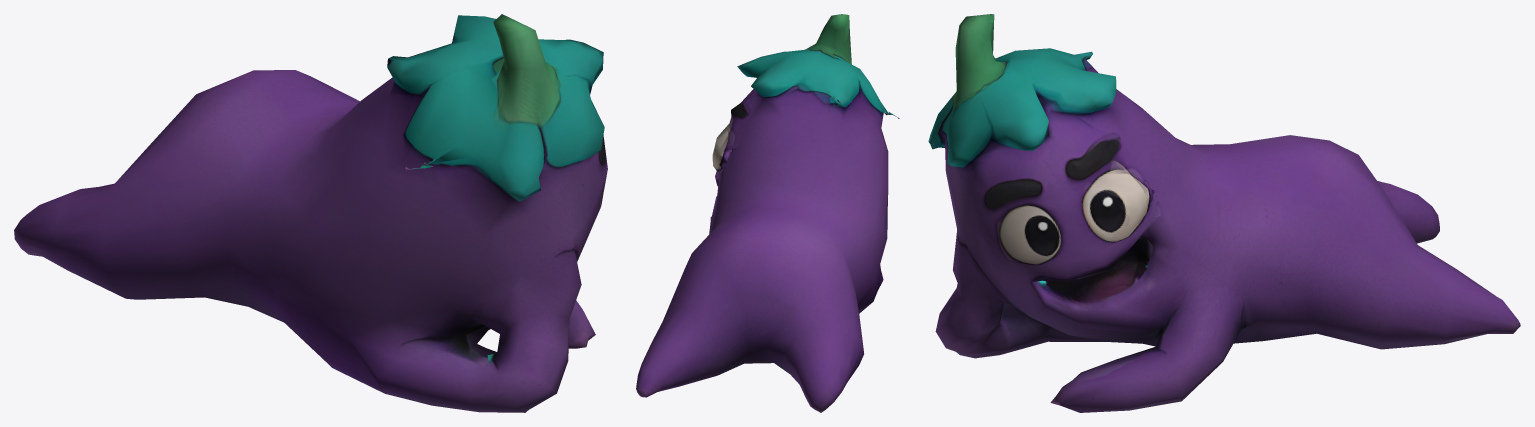
File: 4gunmascot.fbx
3 views of the same model, side by side, from view 1: azimuth 30°, elevation 25°; view 2: azimuth 150°, elevation 25°; view 3: azimuth 270°, elevation 25° (orthographic). The views are drawn at different scales.
Visible parts, largest first — view 1: tripo_node_4cb998c3; view 2: tripo_node_4cb998c3; view 3: tripo_node_4cb998c3.
Boxes of the visible parts, bbox=[...] form: tripo_node_4cb998c3: bbox=[14, 14, 607, 412]; tripo_node_4cb998c3: bbox=[636, 14, 899, 412]; tripo_node_4cb998c3: bbox=[928, 14, 1520, 412].
Bounding box in the file's own units: 64.93 × 62.63 × 98.06.
1 material, 1 textured.
